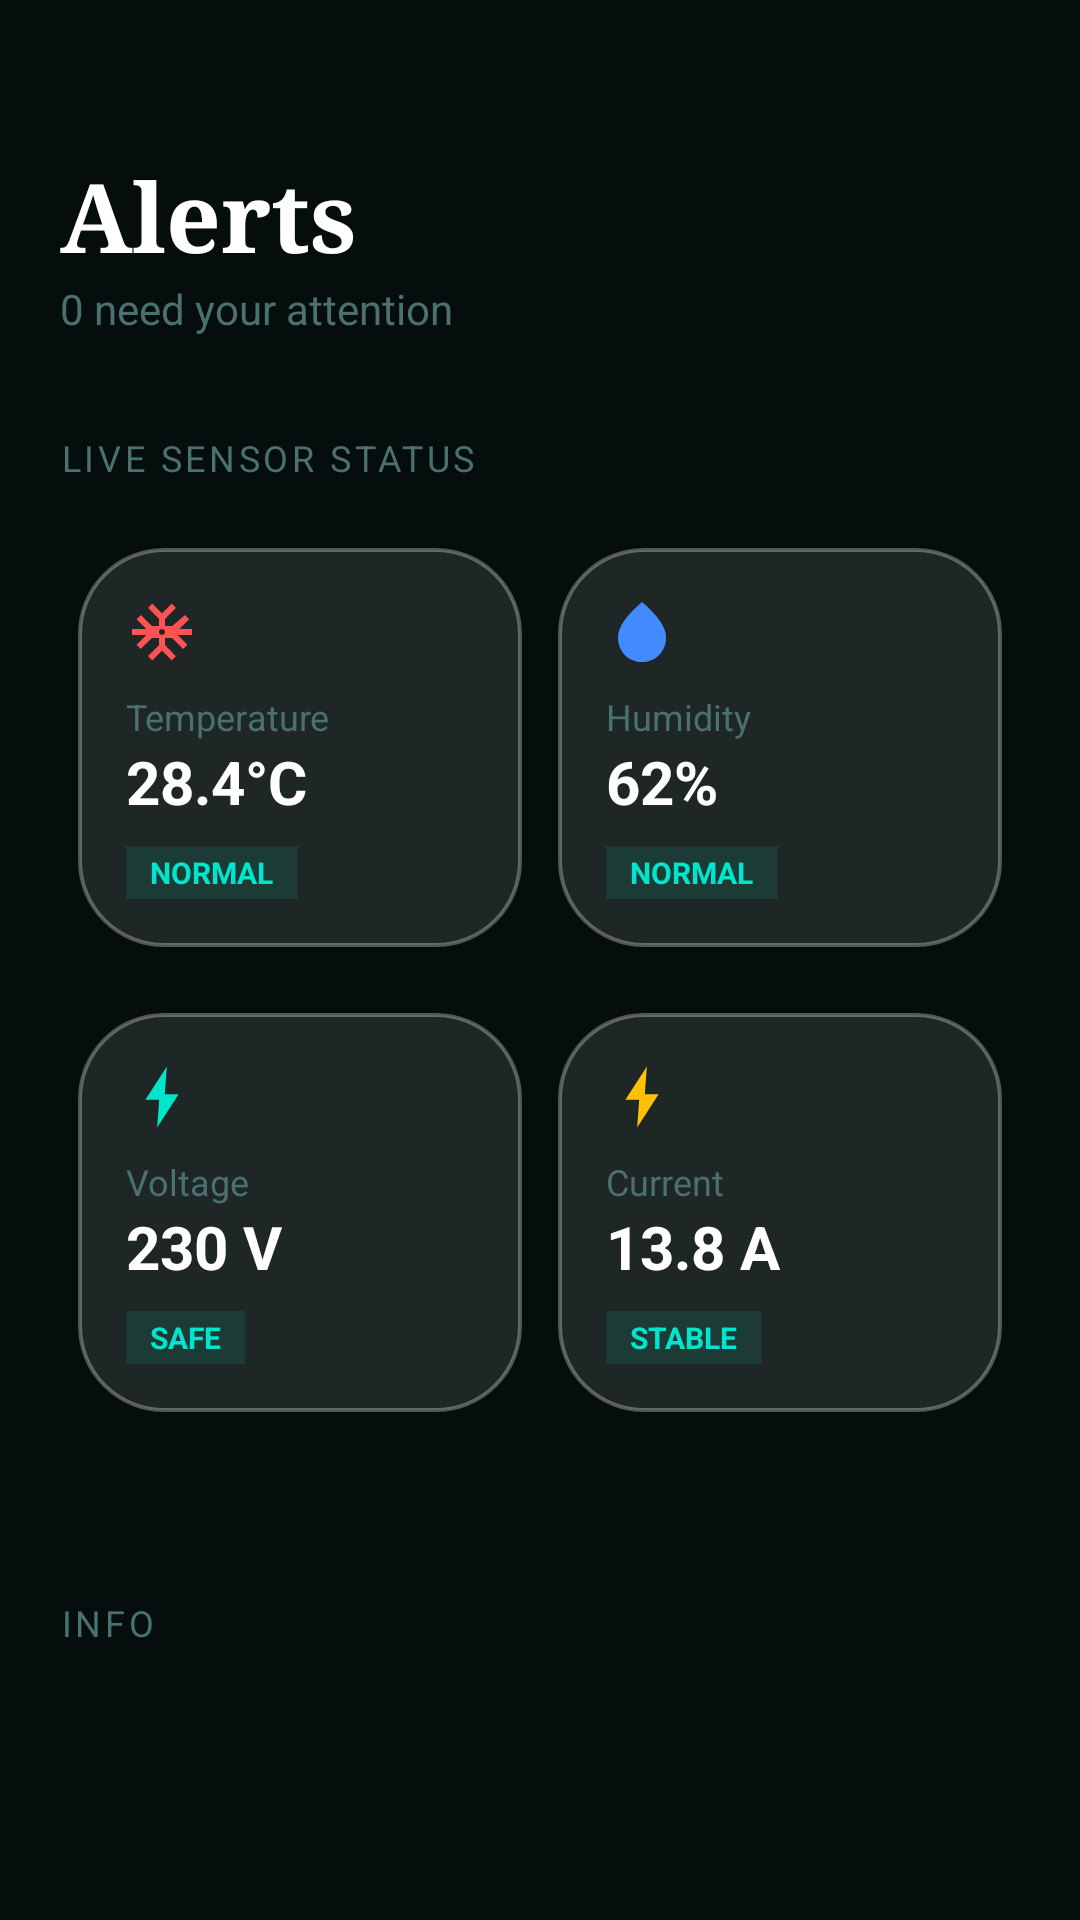

Point at icon controls on the screen. Image size 1080×1920, points as (x,y).
bolt: (162,1097), (642,1097)
